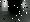person: (3, 2, 9, 15), (23, 2, 27, 12)
